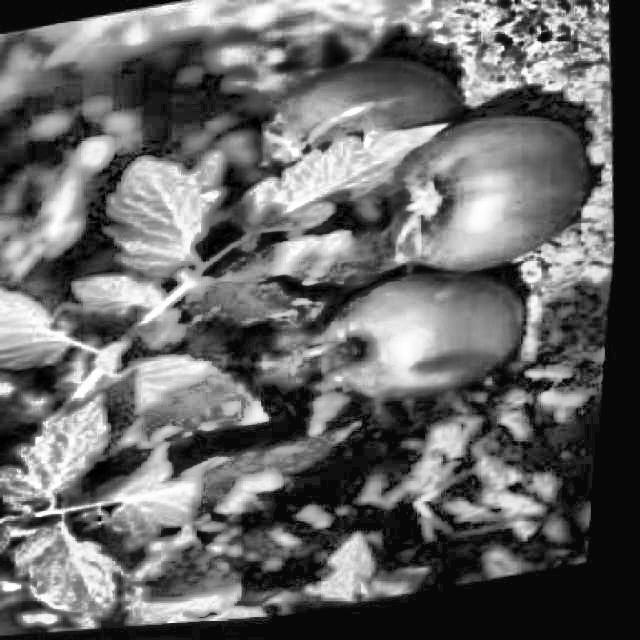plants: (0, 21, 582, 638)
